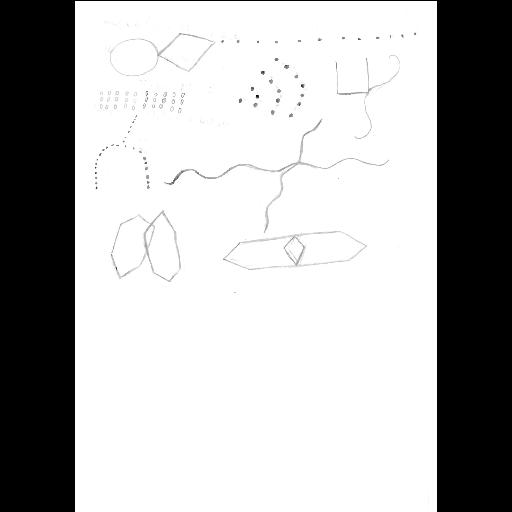shape-1: (108, 29, 214, 73)
shape-2: (216, 30, 420, 44)
shape-3: (94, 84, 190, 112)
shape-4: (232, 54, 306, 120)
shape-5: (334, 52, 402, 140)
shape-6: (93, 110, 151, 194)
shape-7: (164, 118, 390, 236)
shape-8: (110, 210, 182, 284)
shape-9: (222, 228, 370, 274)
